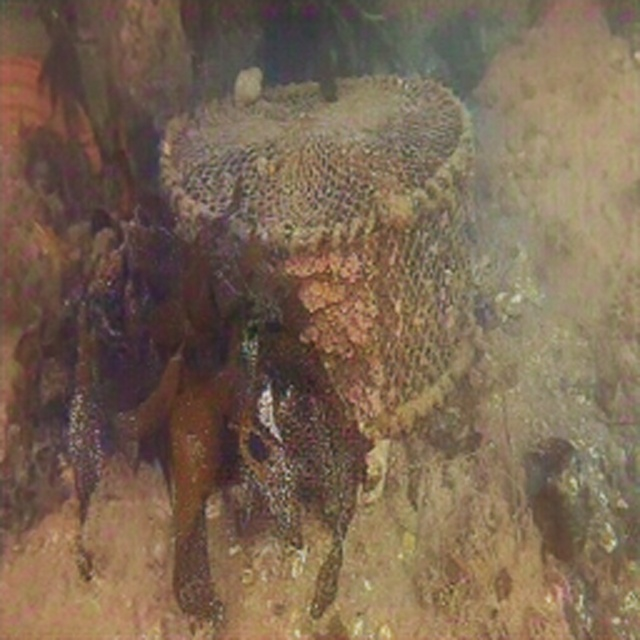mine: (156, 69, 483, 437)
